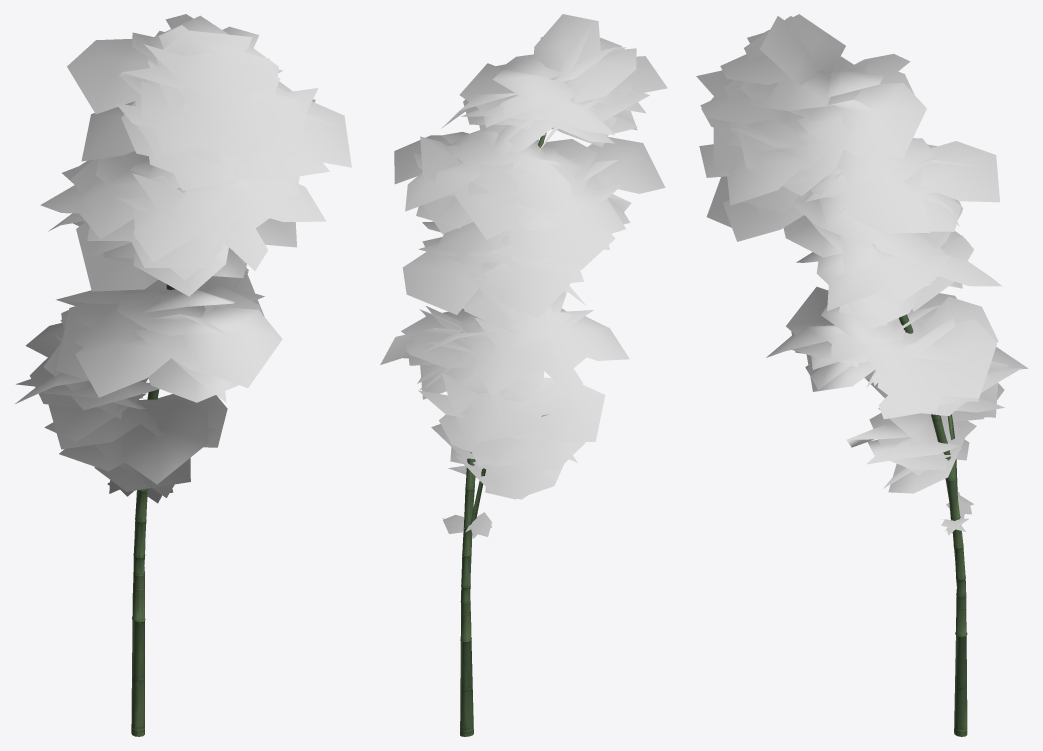
Rendered from SM_EastLands_Bamboo_Medium_02.fbx.
The picture shows the model from 3 angles, left to right: view 1: azimuth 30°, elevation 25°; view 2: azimuth 150°, elevation 25°; view 3: azimuth 270°, elevation 25°; orthographic projection. The views are drawn at different scales.
Visible parts, largest first — view 1: SM_EastLands_Bamboo_Medium_02_LOD0; view 2: SM_EastLands_Bamboo_Medium_02_LOD0; view 3: SM_EastLands_Bamboo_Medium_02_LOD0.
Part boxes in pixels (x1=…): SM_EastLands_Bamboo_Medium_02_LOD0: x1=15, y1=14, x2=351, y2=736; SM_EastLands_Bamboo_Medium_02_LOD0: x1=380, y1=14, x2=667, y2=736; SM_EastLands_Bamboo_Medium_02_LOD0: x1=696, y1=14, x2=1028, y2=736.
Size of the model in its own units: 598 by 1669 by 724.
